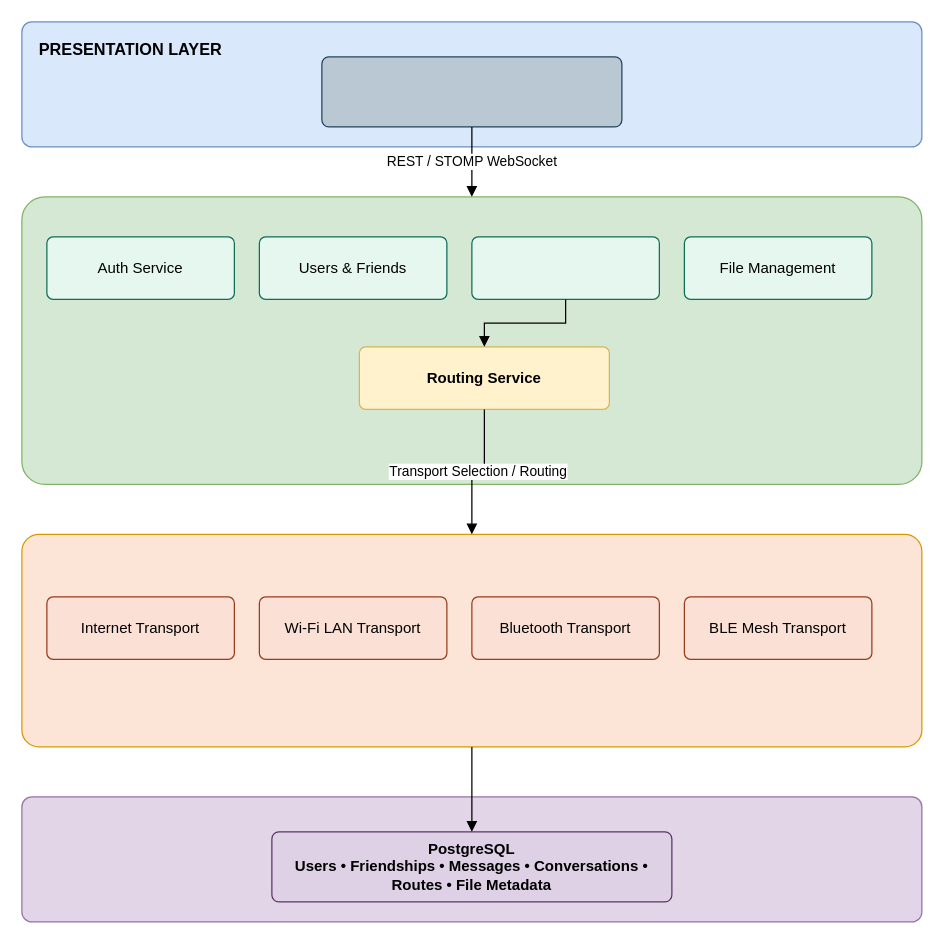
Image size: 944x944. Some labels were removed from this diagram. The box of each missing label's shape, as (x1, y1, x2, y2) in pixels:
APPLICATION LAYER — Spring Boot Backend: (21, 196, 922, 484)
DATA LAYER: (21, 796, 922, 922)
Flutter Android Application UI • Authentication • Friends • Chat • Files • Calls: (321, 56, 622, 127)
Messaging Service: (471, 236, 659, 299)
TRANSPORT ABSTRACTION — CommunicationTransport: (21, 533, 922, 747)
